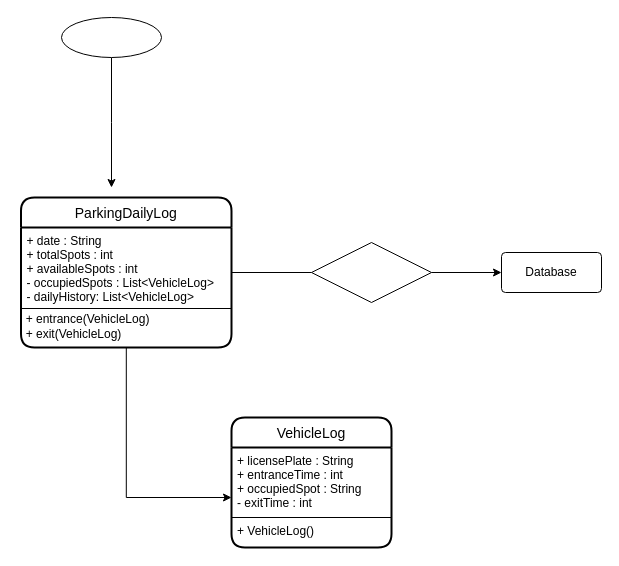
Some shapes in this 619 by 566 pixel diagram are drawn without their labels. Here are the shapes that lost their labels. From the top down, the centre of each, then its label:
At (111,37): "Client".
At (371,272): "Write".
